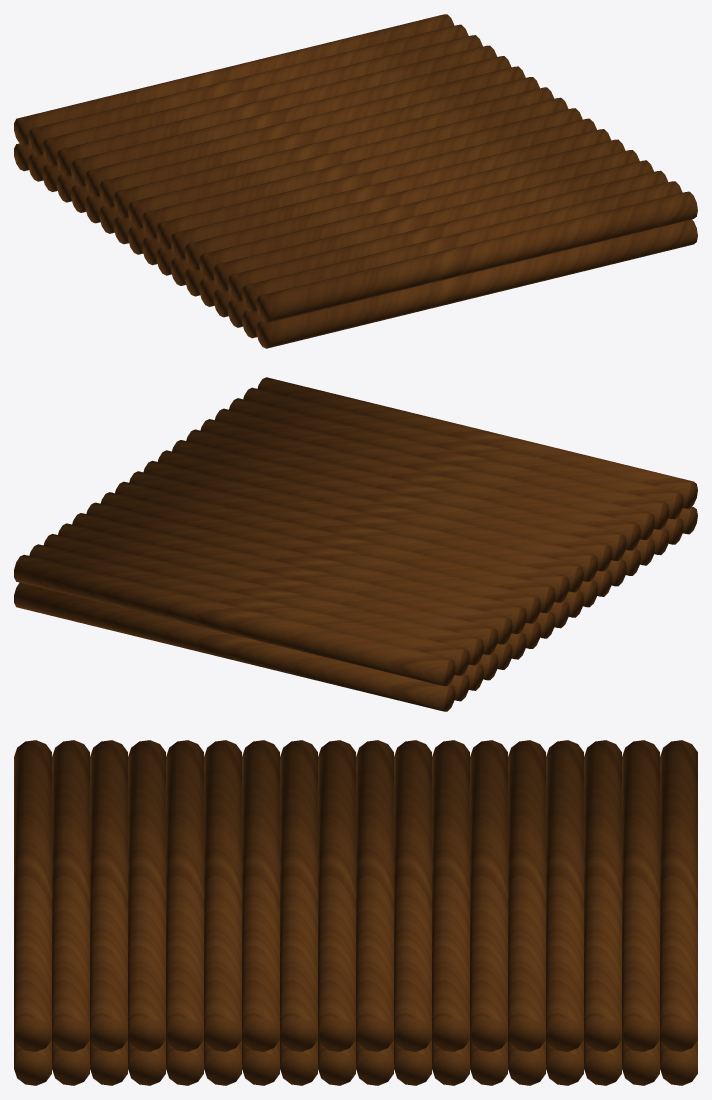
File: HouseBase.fbx
3 renders of one model, top to bottom at view 1: azimuth 30°, elevation 25°; view 2: azimuth 150°, elevation 25°; view 3: azimuth 270°, elevation 25°, orthographic. The views are drawn at different scales.
Parts seen in each view (by area): view 1: HouseBase; view 2: HouseBase; view 3: HouseBase.
Part boxes in pixels (box(x1,y1,x2,y2)): HouseBase: box(14, 14, 697, 348); HouseBase: box(14, 377, 697, 711); HouseBase: box(14, 740, 697, 1085).
Size of the model in its own units: 601 by 68.46 by 625.
